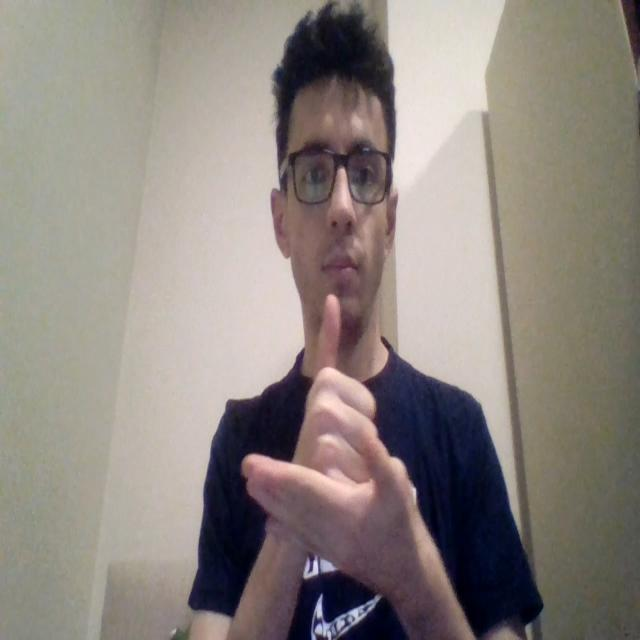help: (242, 295, 416, 584)
